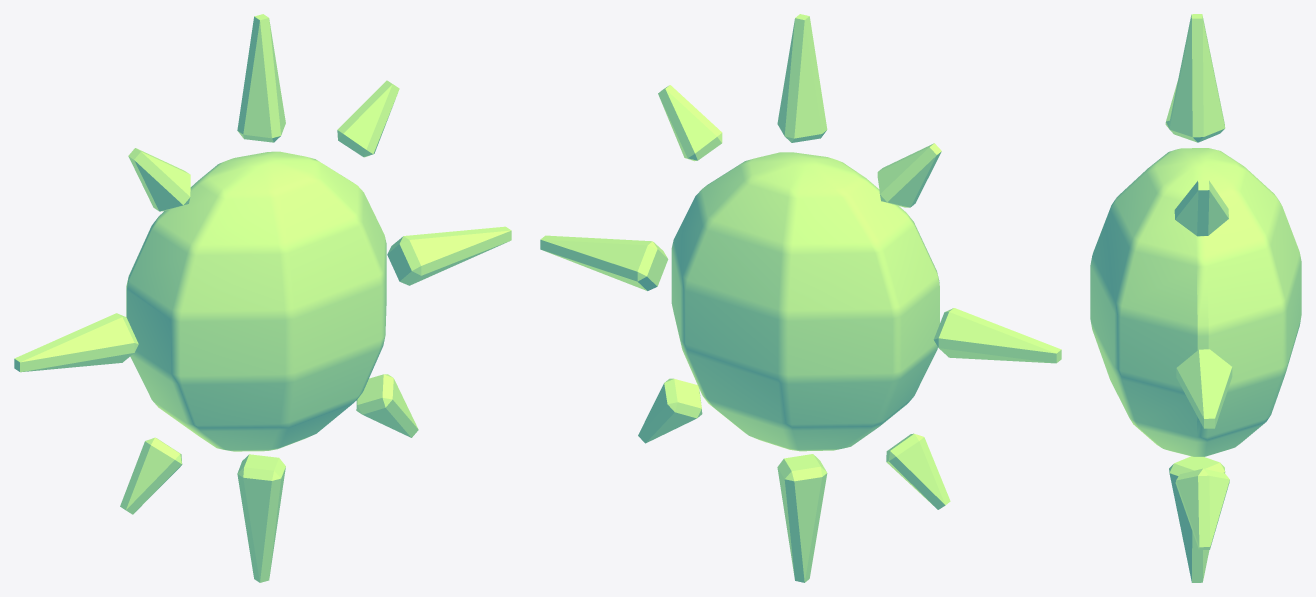
The model's file is Sun_Asset.fbx.
3 views of the same model, side by side, from view 1: azimuth 30°, elevation 25°; view 2: azimuth 150°, elevation 25°; view 3: azimuth 270°, elevation 25° (orthographic).
Visible parts, largest first — view 1: pSphere2; view 2: pSphere2; view 3: pSphere2.
Boxes of the visible parts, x1,y1,x2,y2 form: pSphere2: (14, 14, 511, 582); pSphere2: (540, 14, 1061, 582); pSphere2: (1090, 14, 1301, 582).
Bounding box in the file's own units: 2.99 × 3.19 × 1.08.
